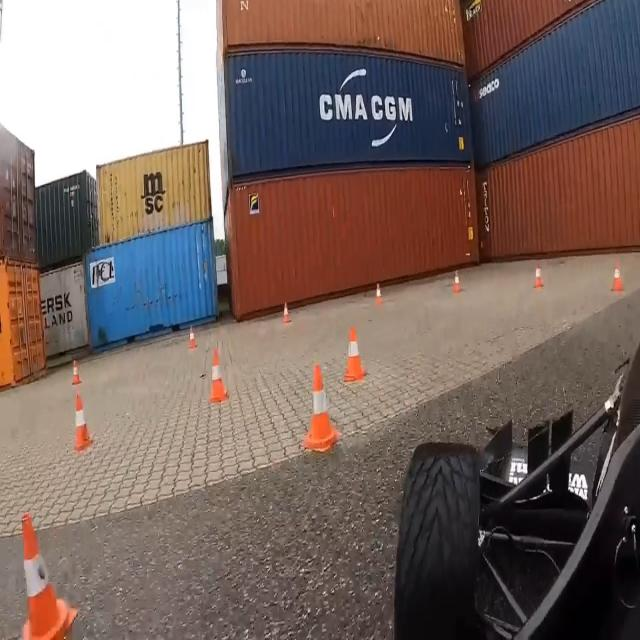Orange cone: (3, 489, 98, 640), (285, 354, 343, 462), (62, 381, 107, 471), (336, 320, 374, 401), (205, 346, 233, 412), (602, 254, 632, 300), (445, 260, 473, 303), (527, 258, 554, 301), (65, 356, 88, 400), (368, 272, 392, 314), (276, 295, 296, 335), (184, 324, 205, 359)
